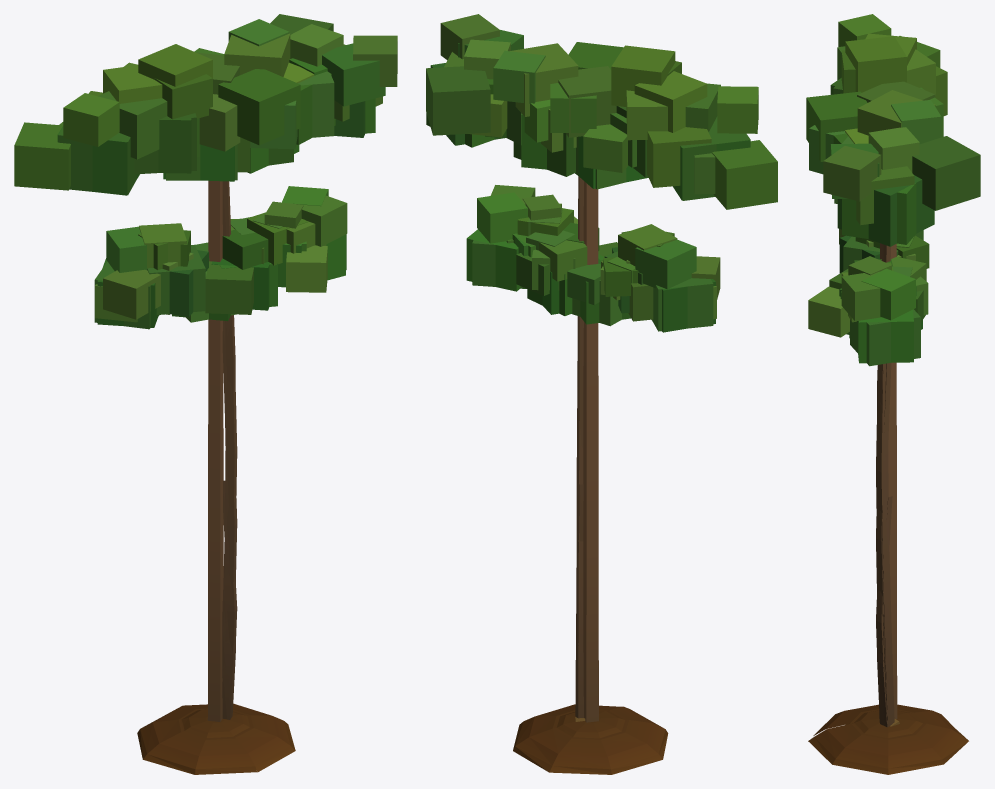
Rendered from kiwi.glb.
3 views of the same model, side by side, from view 1: azimuth 30°, elevation 25°; view 2: azimuth 150°, elevation 25°; view 3: azimuth 270°, elevation 25° (orthographic). The views are drawn at different scales.
Parts seen in each view (by area): view 1: stage4_l1_foliage, stage4_foliage, stage3_foliage, stage3_l1_foliage, stage2_wood, stage2_soil, stage4_bark, stage0_soil, stage3_bark, stage4_l1_bark, stage2_bark; view 2: stage4_foliage, stage4_l1_foliage, stage3_foliage, stage3_l1_foliage, stage2_wood, stage2_soil, stage4_l1_bark, stage0_soil, stage4_bark, stage3_l1_bark; view 3: stage4_l1_foliage, stage4_foliage, stage3_l1_foliage, stage2_soil, stage3_foliage, stage2_wood, stage4_l1_bark, stage4_bark, stage0_soil, stage2_bark, stage3_bark, stage3_l1_bark (+1 smaller).
Part boxes in pixels (x1=…): stage4_l1_foliage: x1=57, y1=14, x2=365, y2=195; stage4_foliage: x1=14, y1=19, x2=397, y2=195; stage3_foliage: x1=94, y1=186, x2=345, y2=329; stage3_l1_foliage: x1=97, y1=195, x2=347, y2=327; stage2_wood: x1=207, y1=180, x2=223, y2=721; stage2_soil: x1=137, y1=703, x2=295, y2=774; stage4_bark: x1=222, y1=183, x2=237, y2=642; stage0_soil: x1=181, y1=709, x2=249, y2=737; stage3_bark: x1=222, y1=325, x2=237, y2=677; stage4_l1_bark: x1=222, y1=181, x2=235, y2=577; stage2_bark: x1=222, y1=490, x2=237, y2=719; stage4_foliage: x1=426, y1=14, x2=777, y2=209; stage4_l1_foliage: x1=426, y1=39, x2=758, y2=200; stage3_foliage: x1=466, y1=192, x2=716, y2=331; stage3_l1_foliage: x1=472, y1=185, x2=720, y2=332; stage2_wood: x1=583, y1=181, x2=598, y2=722; stage2_soil: x1=513, y1=704, x2=668, y2=774; stage4_l1_bark: x1=575, y1=176, x2=583, y2=717; stage0_soil: x1=556, y1=710, x2=624, y2=738; stage4_bark: x1=576, y1=177, x2=583, y2=718; stage3_l1_bark: x1=577, y1=316, x2=583, y2=428; stage4_l1_foliage: x1=806, y1=14, x2=980, y2=246; stage4_foliage: x1=809, y1=36, x2=947, y2=244; stage3_l1_foliage: x1=808, y1=229, x2=929, y2=366; stage2_soil: x1=808, y1=704, x2=968, y2=774; stage3_foliage: x1=839, y1=230, x2=928, y2=363; stage2_wood: x1=879, y1=243, x2=897, y2=718; stage4_l1_bark: x1=877, y1=244, x2=894, y2=726; stage4_bark: x1=876, y1=244, x2=892, y2=669; stage0_soil: x1=845, y1=710, x2=922, y2=737; stage2_bark: x1=876, y1=498, x2=888, y2=726; stage3_bark: x1=876, y1=363, x2=888, y2=629; stage3_l1_bark: x1=881, y1=363, x2=891, y2=726.
Bounding box in the file's own units: 1.17 × 2.22 × 0.5065.
